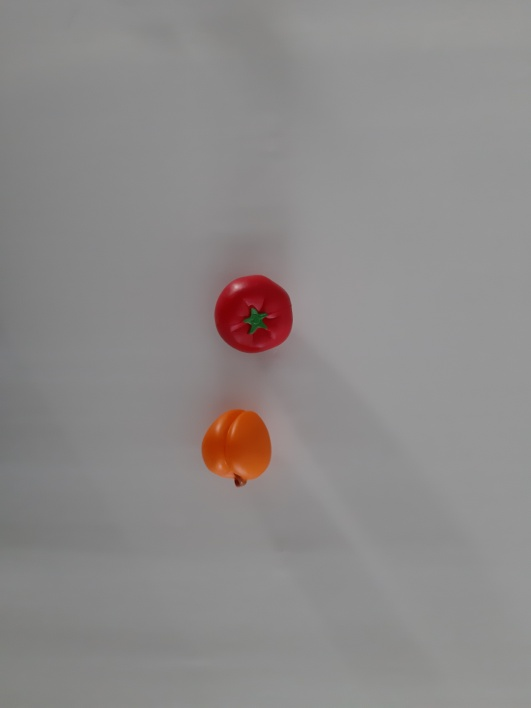apricot: (189, 396, 287, 501)
tomato: (204, 271, 301, 365)
